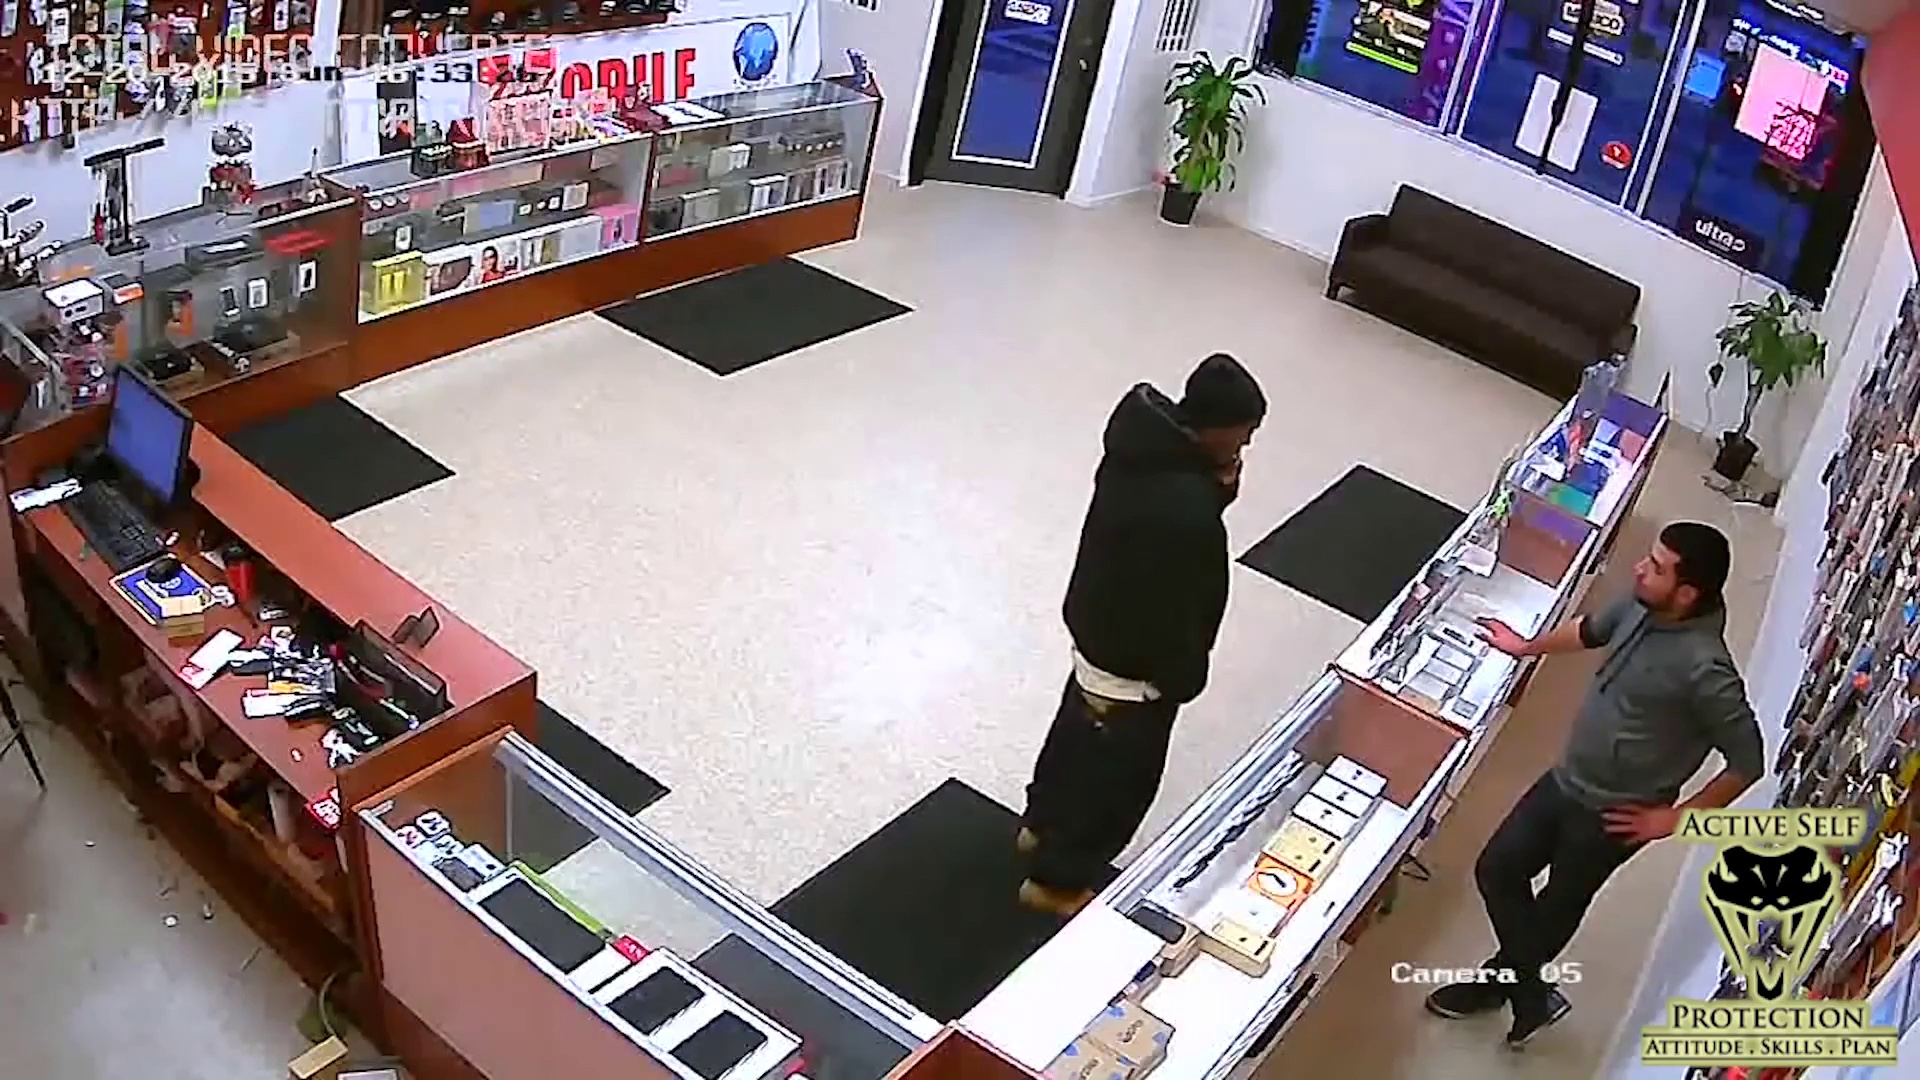normal: (961, 323, 1288, 928), (1418, 513, 1774, 1055)
